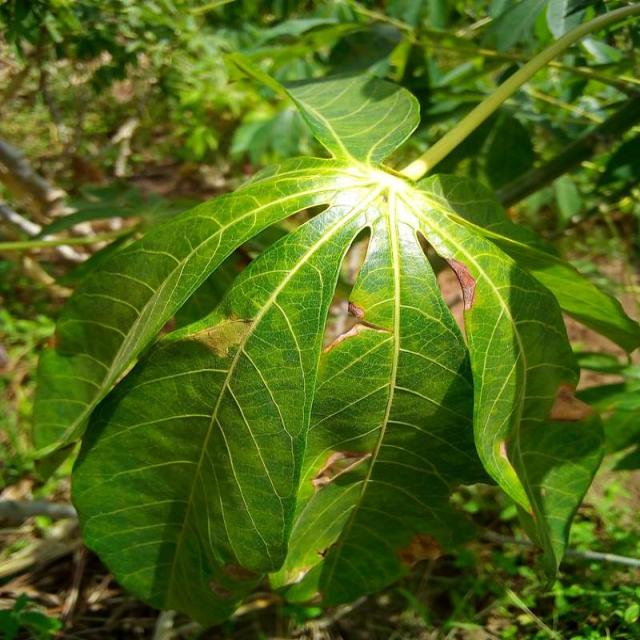cassava leaf: (31, 53, 635, 628)
